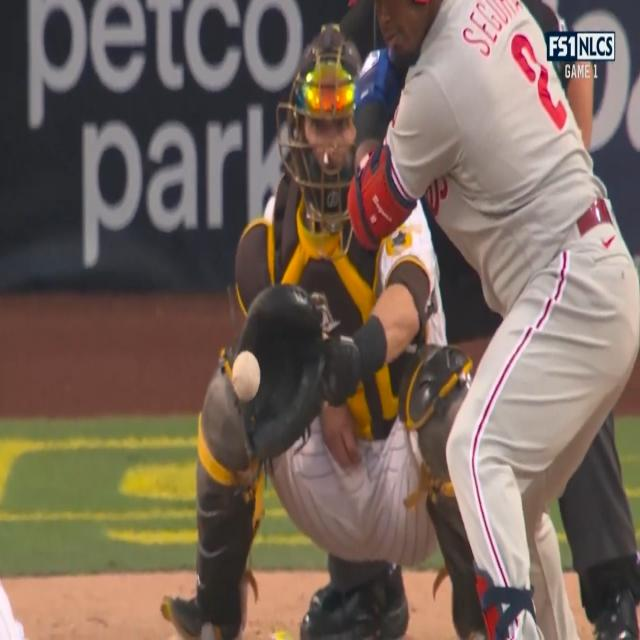baseball: (231, 350, 261, 404)
